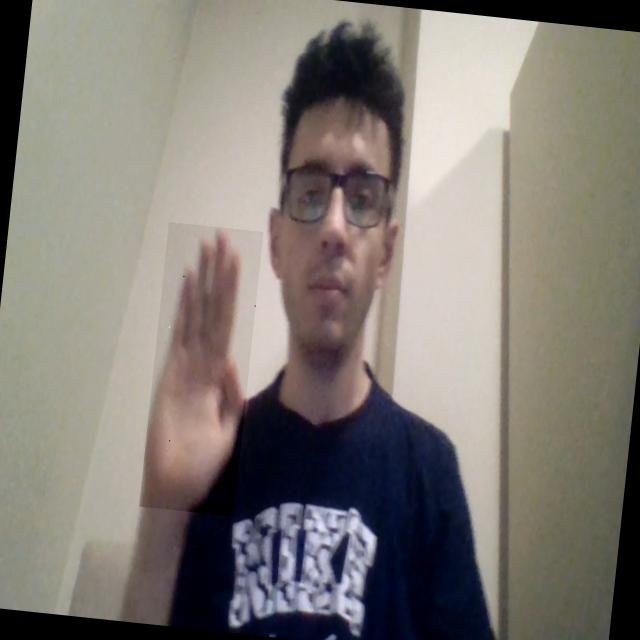hello: (139, 223, 264, 516)
